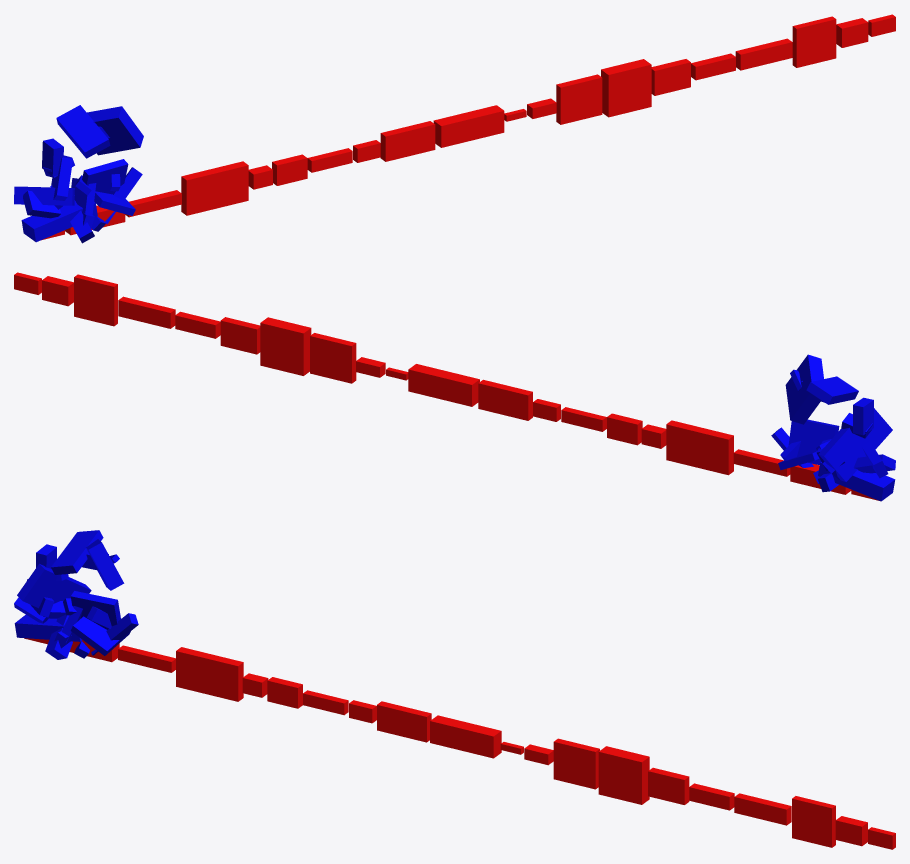
The model's file is test.layouter.flatortho.gltf.
3 views of the same model, one above another, from view 1: azimuth 30°, elevation 25°; view 2: azimuth 150°, elevation 25°; view 3: azimuth 330°, elevation 25° (orthographic).
Visible parts, largest first — view 1: shape_23, shape_33, shape_29, shape_32, shape_37, shape_28, shape_13, shape_8, shape_36, shape_34, shape_9, shape_12 (+16 smaller); view 2: shape_23, shape_33, shape_29, shape_3, shape_32, shape_37, shape_28, shape_13, shape_34, shape_36, shape_12, shape_9 (+12 smaller); view 3: shape_23, shape_33, shape_29, shape_32, shape_37, shape_28, shape_3, shape_34, shape_36, shape_8, shape_17, shape_12 (+7 smaller).
Part boxes in pixels (x1=…): shape_23: x1=181, y1=161, x2=248, y2=215; shape_33: x1=601, y1=59, x2=651, y2=117; shape_29: x1=433, y1=105, x2=504, y2=147; shape_32: x1=556, y1=74, x2=602, y2=124; shape_37: x1=792, y1=16, x2=836, y2=67; shape_28: x1=380, y1=121, x2=435, y2=161; shape_13: x1=87, y1=106, x2=143, y2=155; shape_8: x1=56, y1=105, x2=110, y2=158; shape_36: x1=735, y1=38, x2=792, y2=70; shape_34: x1=651, y1=59, x2=690, y2=95; shape_9: x1=21, y1=202, x2=97, y2=242; shape_12: x1=82, y1=159, x2=128, y2=194; shape_23: x1=666, y1=420, x2=733, y2=475; shape_33: x1=260, y1=317, x2=311, y2=375; shape_29: x1=408, y1=364, x2=479, y2=406; shape_3: x1=818, y1=408, x2=892, y2=481; shape_32: x1=310, y1=333, x2=356, y2=383; shape_37: x1=74, y1=274, x2=117, y2=326; shape_28: x1=478, y1=379, x2=532, y2=420; shape_13: x1=785, y1=354, x2=824, y2=424; shape_34: x1=220, y1=317, x2=260, y2=354; shape_36: x1=118, y1=296, x2=175, y2=328; shape_12: x1=788, y1=419, x2=839, y2=464; shape_9: x1=818, y1=462, x2=895, y2=501; shape_23: x1=176, y1=647, x2=243, y2=701; shape_33: x1=598, y1=746, x2=649, y2=804; shape_29: x1=430, y1=715, x2=501, y2=758; shape_32: x1=553, y1=738, x2=599, y2=789; shape_37: x1=792, y1=796, x2=835, y2=847; shape_28: x1=377, y1=701, x2=431, y2=742; shape_3: x1=17, y1=563, x2=91, y2=608; shape_34: x1=648, y1=767, x2=689, y2=804; shape_36: x1=734, y1=793, x2=791, y2=825; shape_8: x1=51, y1=530, x2=103, y2=574; shape_17: x1=70, y1=616, x2=130, y2=655; shape_12: x1=70, y1=591, x2=120, y2=629.
Size of the model in its own units: 943 by 137 by 71.96.
